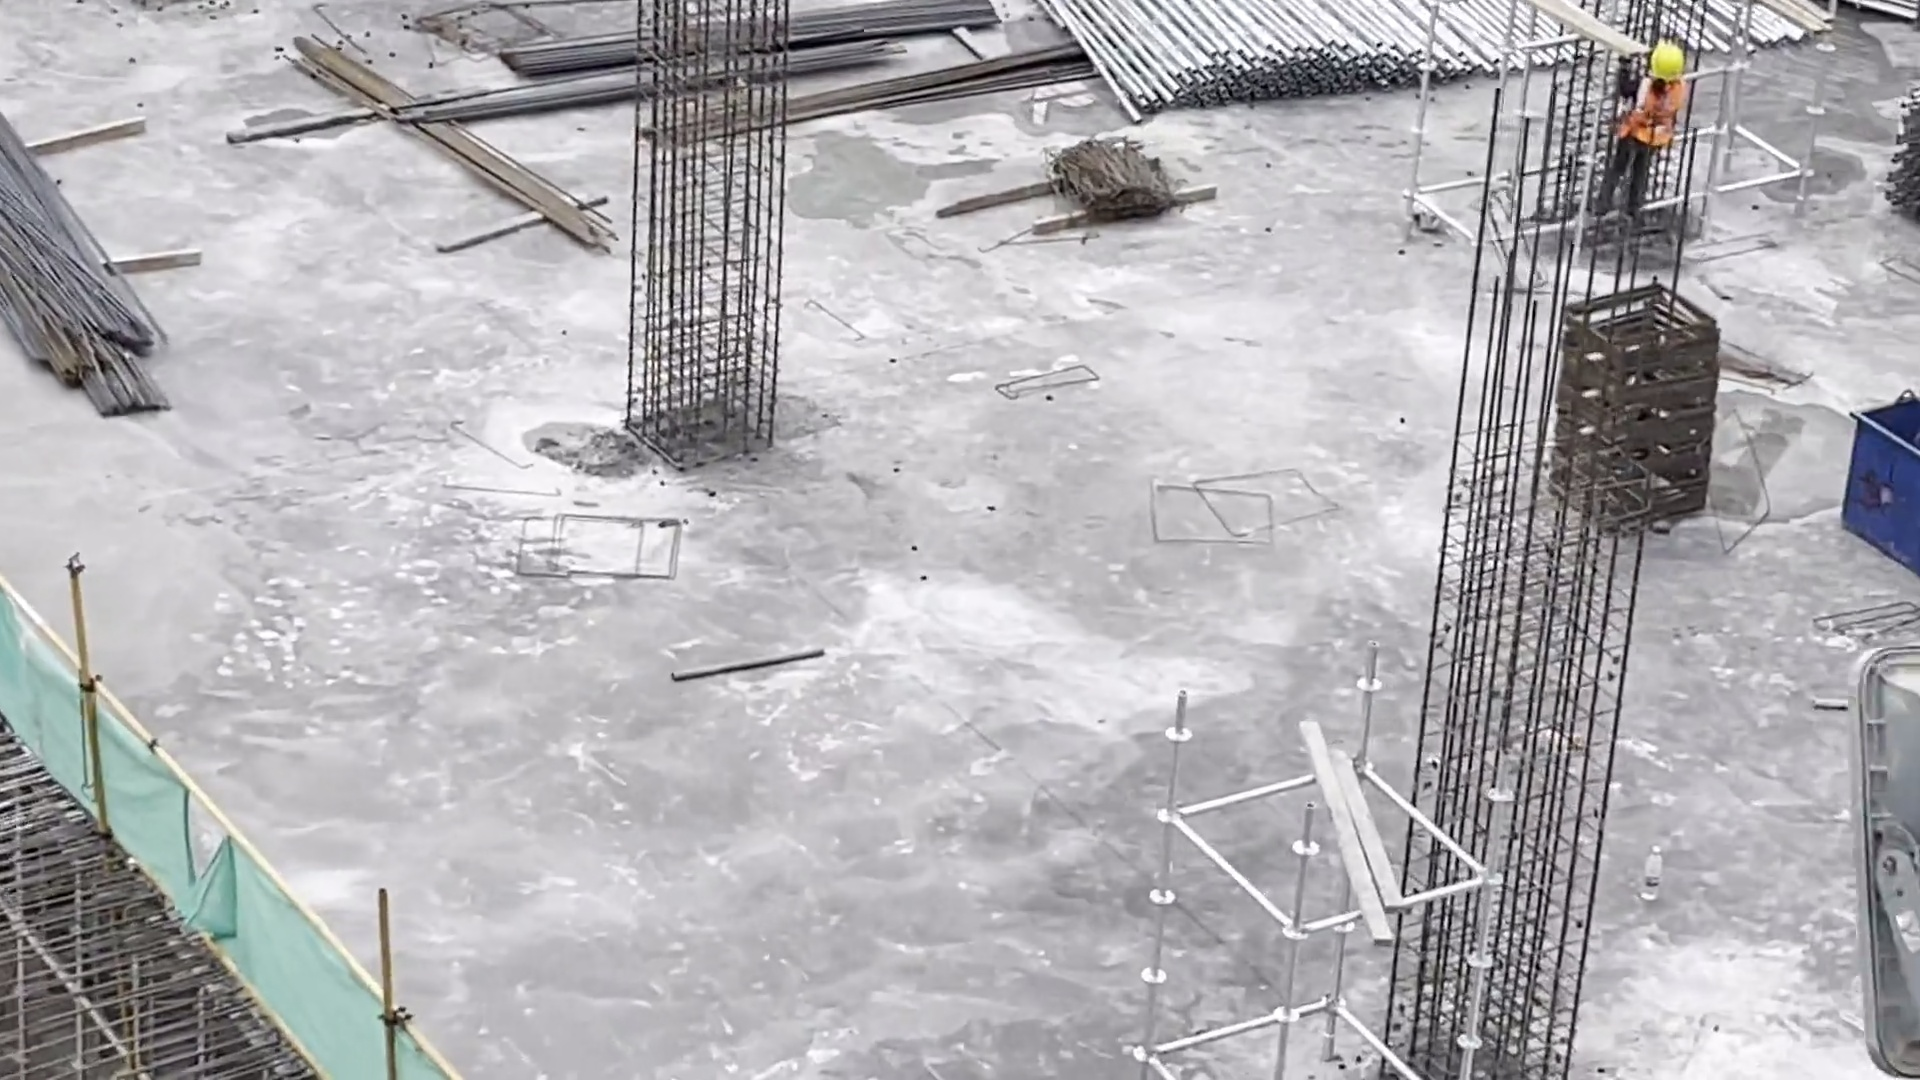helmet: (1645, 38, 1686, 80)
hopper: (1828, 361, 1920, 577)
person: (1603, 37, 1695, 198)
rebar: (1, 70, 177, 416), (633, 52, 1096, 160), (404, 43, 896, 141), (485, 1, 989, 85)
scaffold: (1053, 1, 1573, 120), (1867, 96, 1920, 234)
vest: (1625, 78, 1686, 154)
